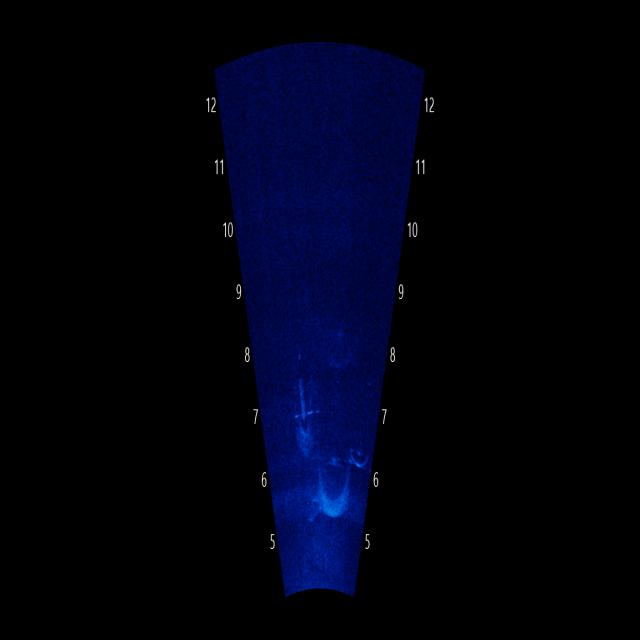circle: (311, 454, 352, 526)
